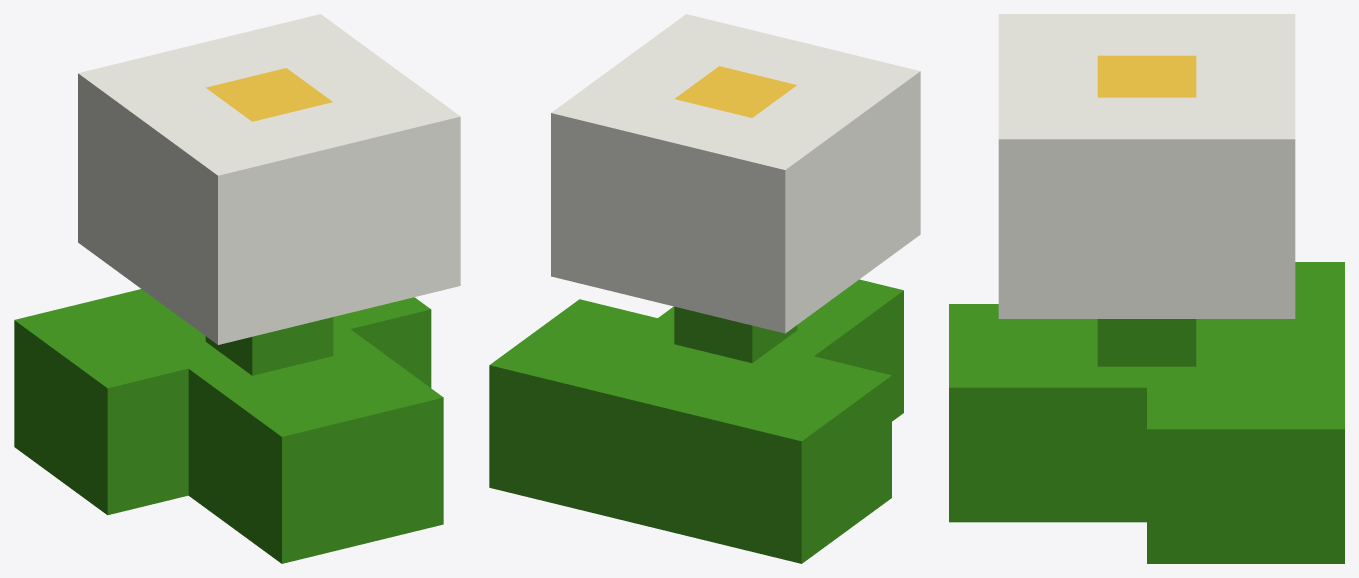
The model's file is deco_flower_clover_white.glb.
3 views of the same model, side by side, from view 1: azimuth 30°, elevation 25°; view 2: azimuth 150°, elevation 25°; view 3: azimuth 270°, elevation 25° (orthographic). The views are drawn at different scales.
Parts seen in each view (by area): view 1: model_0; view 2: model_0; view 3: model_0.
Part boxes in pixels (x1,y1,x2,y2): model_0: (14, 14, 460, 563); model_0: (489, 14, 920, 563); model_0: (949, 14, 1344, 563).
Bounding box in the file's own units: 0.32 × 0.36 × 0.32.
